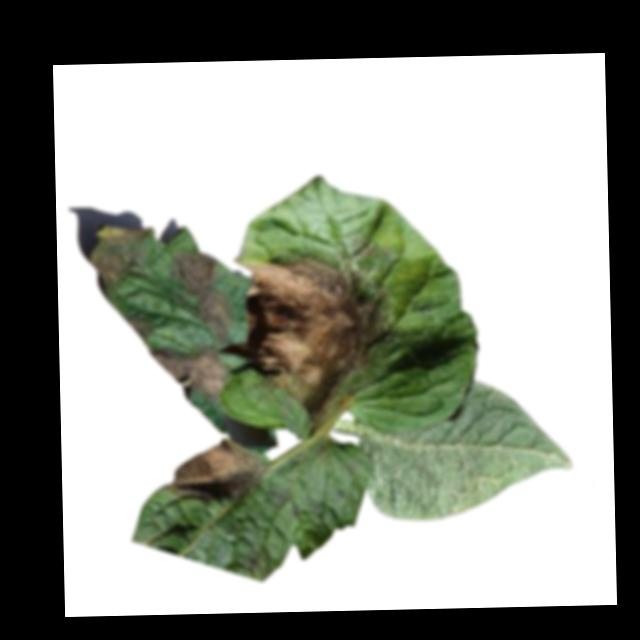Late_blight: (238, 252, 389, 437), (167, 249, 234, 349), (159, 440, 267, 501), (148, 345, 235, 405), (85, 224, 158, 292), (124, 314, 154, 345)
